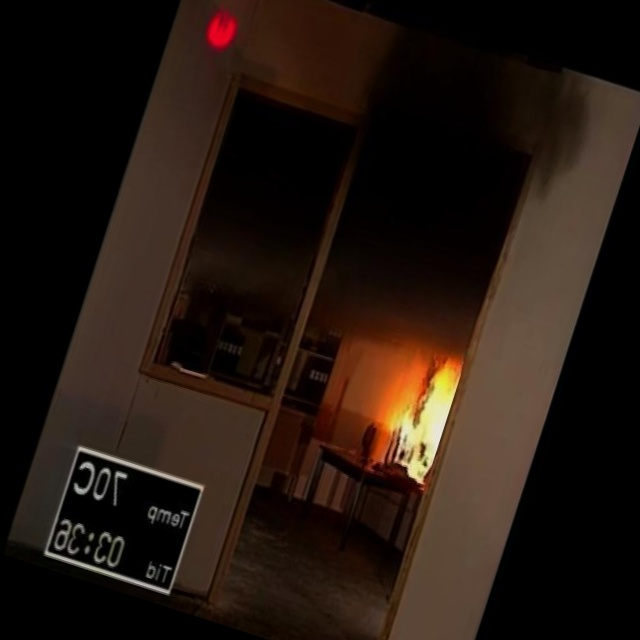fire: (355, 331, 470, 486)
